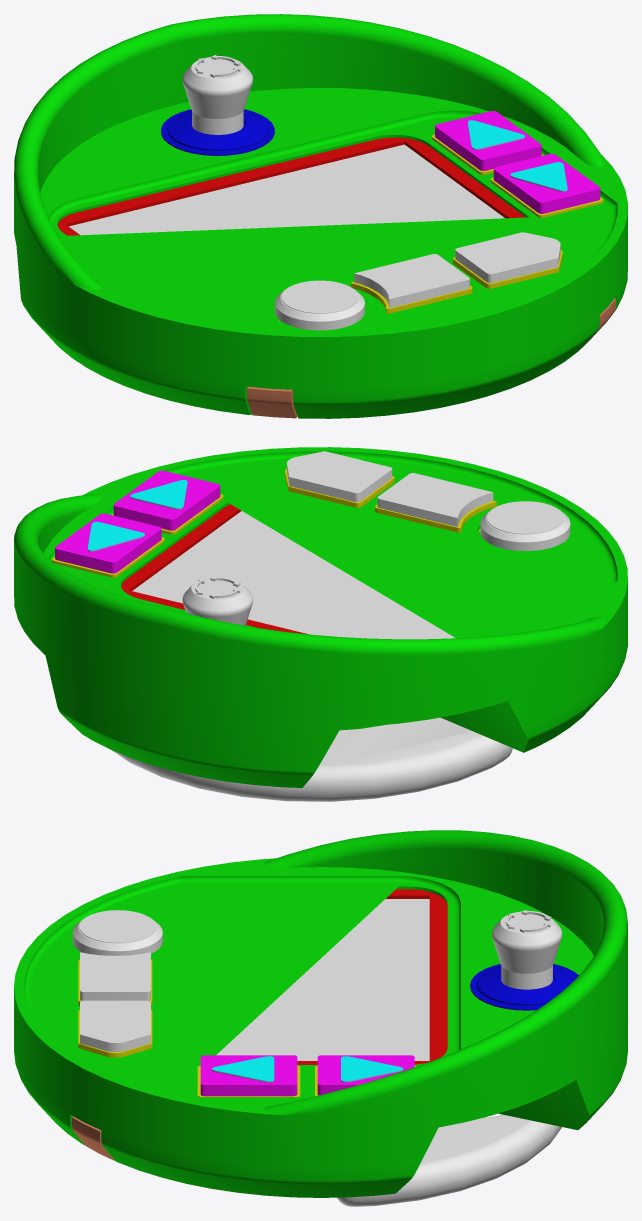
File: Pendant.fbx
3 views of the same model, one above another, from view 1: azimuth 30°, elevation 25°; view 2: azimuth 150°, elevation 25°; view 3: azimuth 270°, elevation 25° (orthographic).
Visible parts, largest first — view 1: Pendant, Screen, StopButton, ArrowDown, ArrowUp, ContextualLeft, ContextualRight, MenuButton; view 2: Pendant, Screen, Handle, ArrowUp, ArrowDown, ContextualLeft, ContextualRight, MenuButton, StopButton; view 3: Pendant, Screen, Handle, StopButton, ArrowDown, MenuButton, ContextualRight, ContextualLeft, ArrowUp.
Part boxes in pixels (x1=…): Pendant: x1=14, y1=14, x2=627, y2=418; Screen: x1=69, y1=144, x2=504, y2=235; StopButton: x1=182, y1=55, x2=252, y2=134; ArrowDown: x1=493, y1=153, x2=600, y2=213; ArrowUp: x1=435, y1=111, x2=541, y2=170; ContextualLeft: x1=354, y1=254, x2=469, y2=307; ContextualRight: x1=455, y1=232, x2=560, y2=283; MenuButton: x1=275, y1=280, x2=364, y2=330; Pendant: x1=14, y1=447, x2=627, y2=787; Screen: x1=132, y1=511, x2=455, y2=639; Handle: x1=112, y1=717, x2=512, y2=801; ArrowUp: x1=55, y1=513, x2=161, y2=573; ArrowDown: x1=113, y1=470, x2=220, y2=530; ContextualLeft: x1=377, y1=473, x2=493, y2=526; ContextualRight: x1=287, y1=451, x2=392, y2=502; MenuButton: x1=480, y1=501, x2=570, y2=551; StopButton: x1=182, y1=576, x2=252, y2=625; Pendant: x1=14, y1=830, x2=627, y2=1197; Screen: x1=216, y1=899, x2=429, y2=1060; Handle: x1=337, y1=1114, x2=561, y2=1206; StopButton: x1=491, y1=910, x2=562, y2=989; ArrowDown: x1=200, y1=1055, x2=297, y2=1096; MenuButton: x1=72, y1=910, x2=162, y2=955; ContextualRight: x1=80, y1=1000, x2=150, y2=1051; ContextualLeft: x1=80, y1=952, x2=150, y2=1000; ArrowUp: x1=317, y1=1055, x2=414, y2=1095.
Size of the model in its own units: 40.01 by 14.34 by 40.01.
